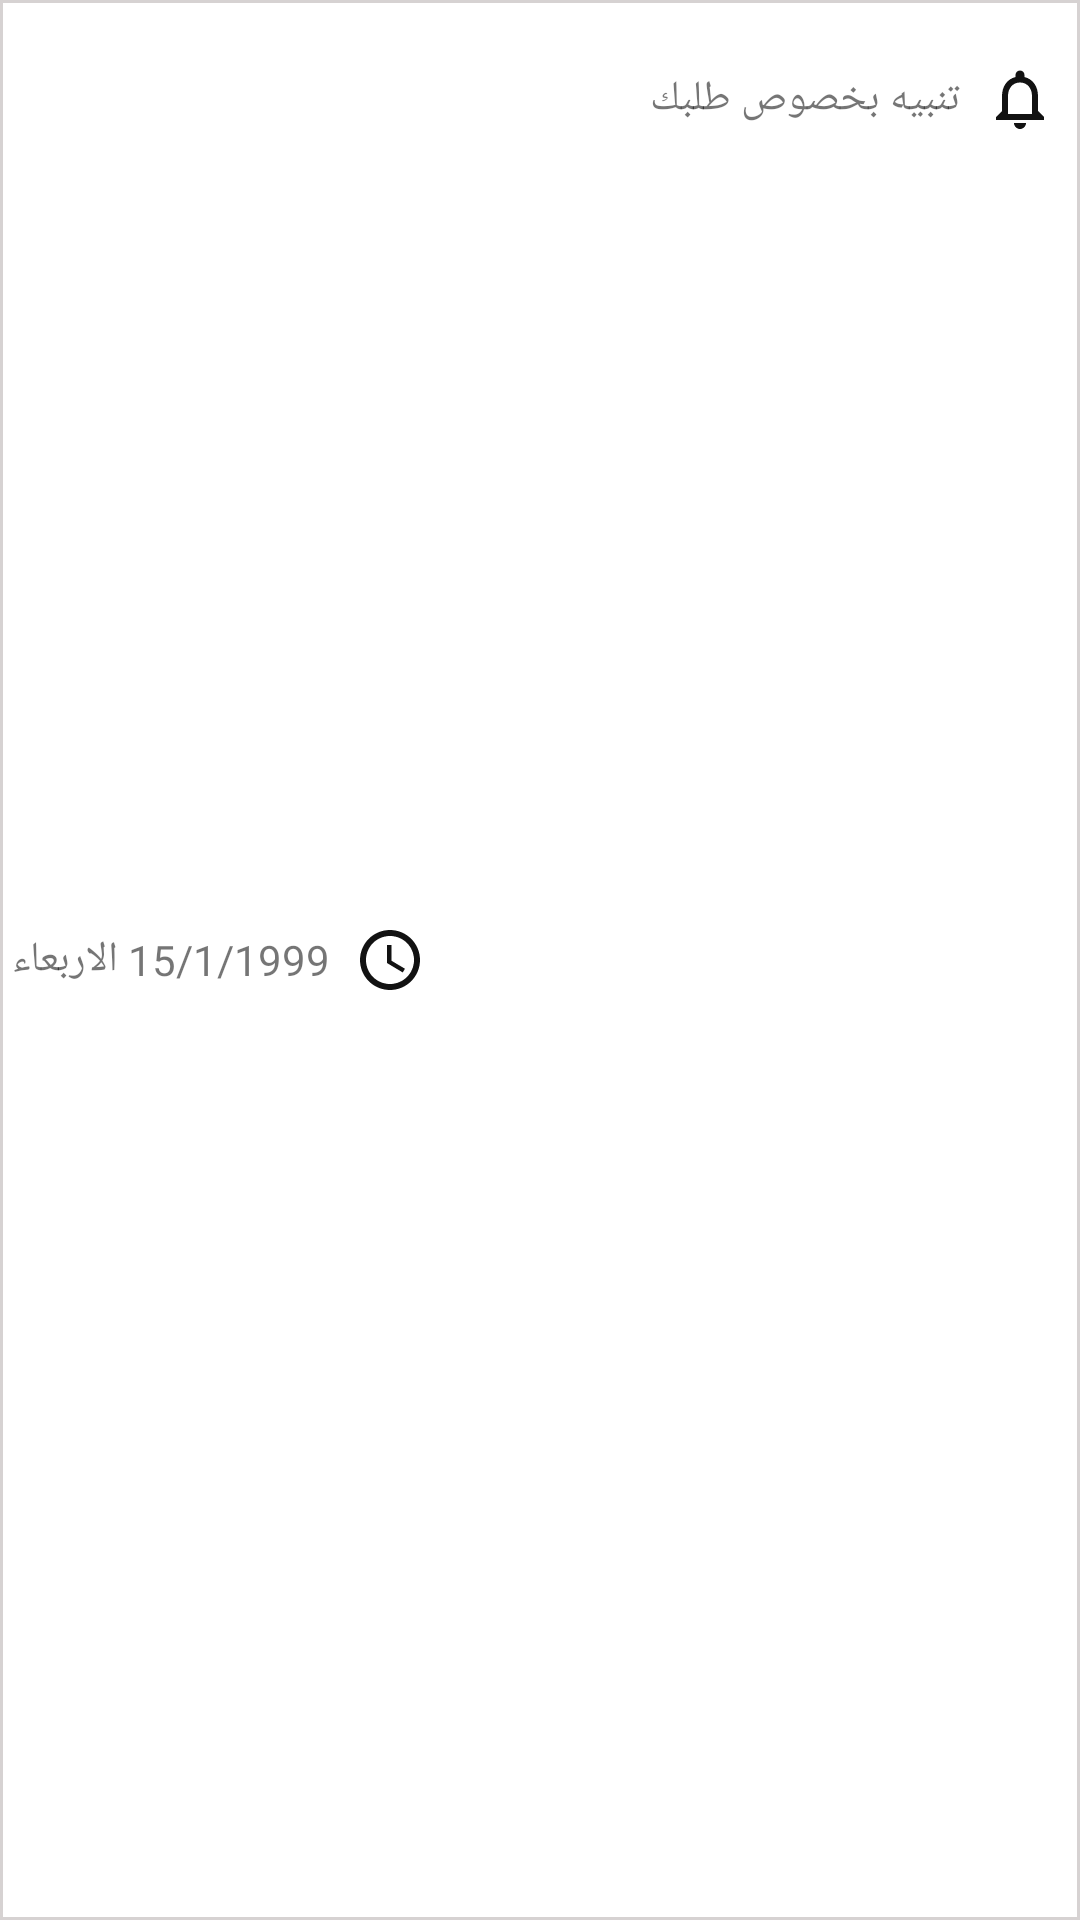

Screen size 1080 × 1920. Icon name, then its box in pixels as (x1, y1, x2, y2):
access time: (360, 930, 420, 990)
notifications none: (996, 70, 1044, 129)
